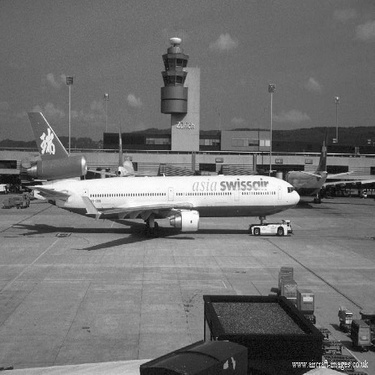airplane: (29, 106, 307, 247)
